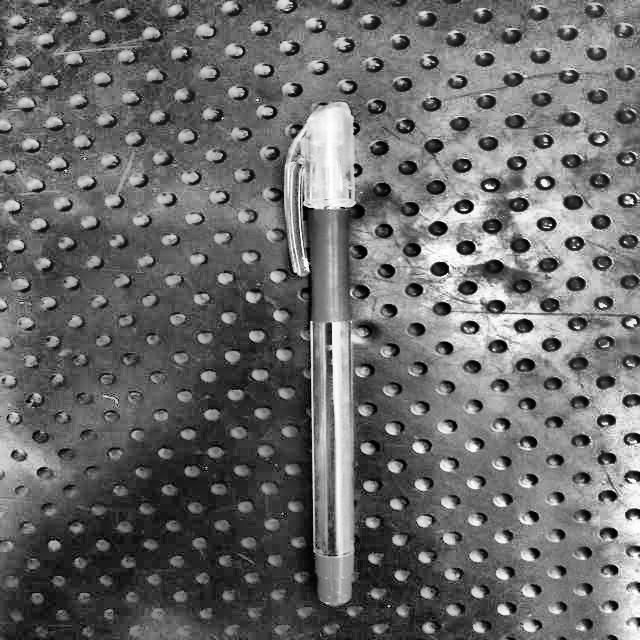Pen: (274, 96, 397, 617)
